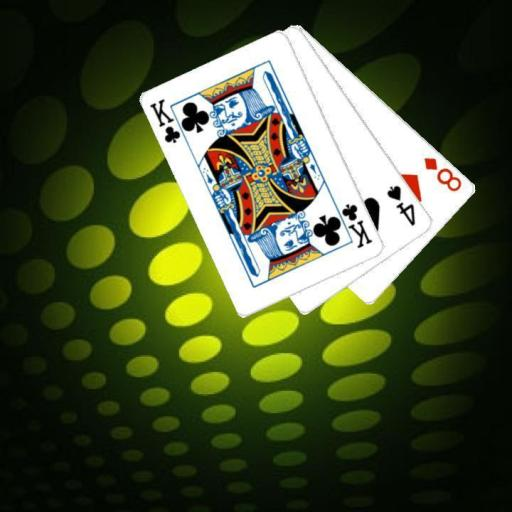card-corner: (147, 96, 191, 145), (331, 200, 374, 250), (420, 154, 464, 194), (384, 182, 417, 228)
